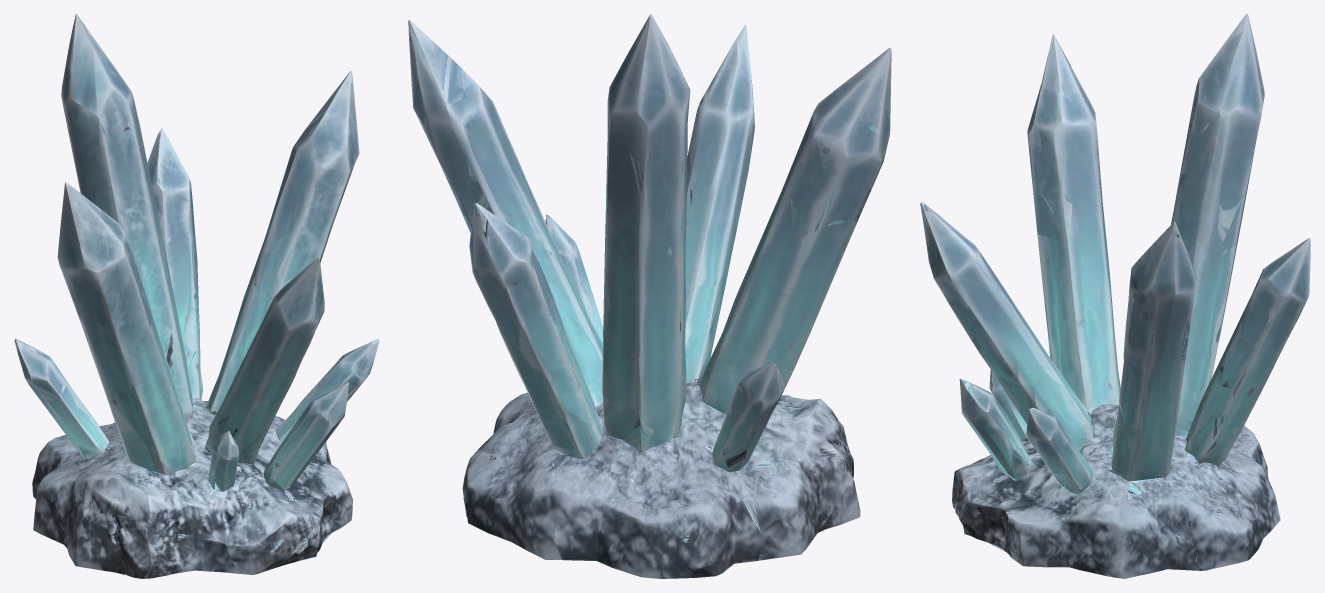
File: prop_crystals-high.glb
The picture shows the model from 3 angles, left to right: view 1: azimuth 30°, elevation 25°; view 2: azimuth 150°, elevation 25°; view 3: azimuth 270°, elevation 25°; orthographic projection. The views are drawn at different scales.
Visible parts, largest first — view 1: Mesh_0; view 2: Mesh_0; view 3: Mesh_0.
Part boxes in pixels (x1=…): Mesh_0: x1=14, y1=14, x2=379, y2=578; Mesh_0: x1=408, y1=14, x2=891, y2=578; Mesh_0: x1=920, y1=14, x2=1310, y2=578.
Size of the model in its own units: 1.48 by 1.9 by 1.42.
1 material, 1 textured.
